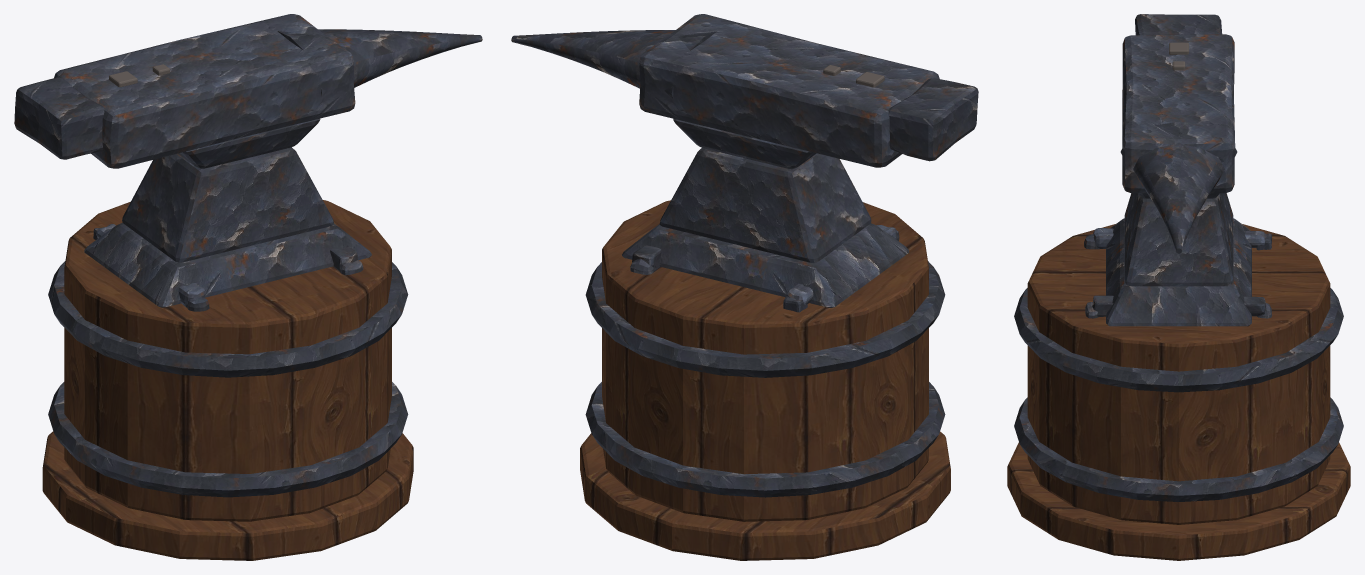
The model's file is anvil.glb.
The picture shows the model from 3 angles, left to right: view 1: azimuth 30°, elevation 25°; view 2: azimuth 150°, elevation 25°; view 3: azimuth 270°, elevation 25°; orthographic projection. The views are drawn at different scales.
Parts seen in each view (by area): view 1: model; view 2: model; view 3: model.
Boxes of the visible parts, <box> form: model: <box>14,14,482,560</box>; model: <box>511,14,978,560</box>; model: <box>1007,14,1350,560</box>.
Bounding box in the file's own units: 0.9333 × 0.868 × 0.68.
5 materials, 4 textured.
